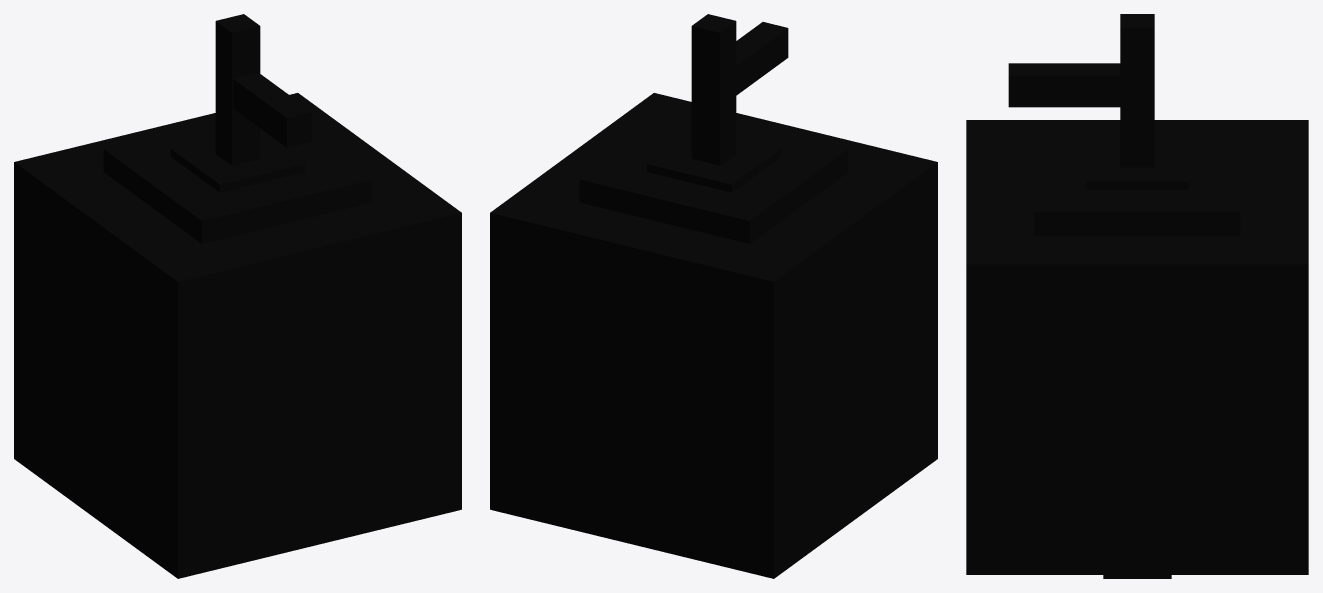
File: grepa.obj
3 renders of one model, left to right at view 1: azimuth 30°, elevation 25°; view 2: azimuth 150°, elevation 25°; view 3: azimuth 270°, elevation 25°, orthographic. The views are drawn at different scales.
Visible parts, largest first — view 1: Cube; view 2: Cube; view 3: Cube.
Part boxes in pixels (x1,y1,x2,y2): Cube: [14, 14, 461, 578]; Cube: [490, 14, 937, 578]; Cube: [966, 14, 1308, 578].
Size of the model in its own units: 0.28 by 0.4902 by 0.28.
